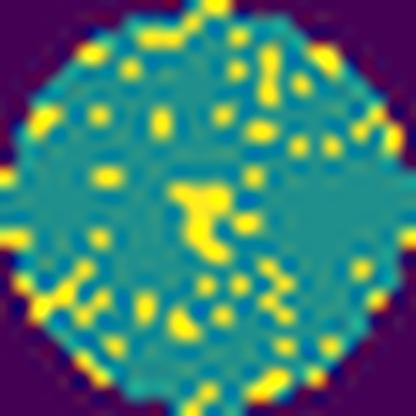Center: (168, 182, 235, 265)
